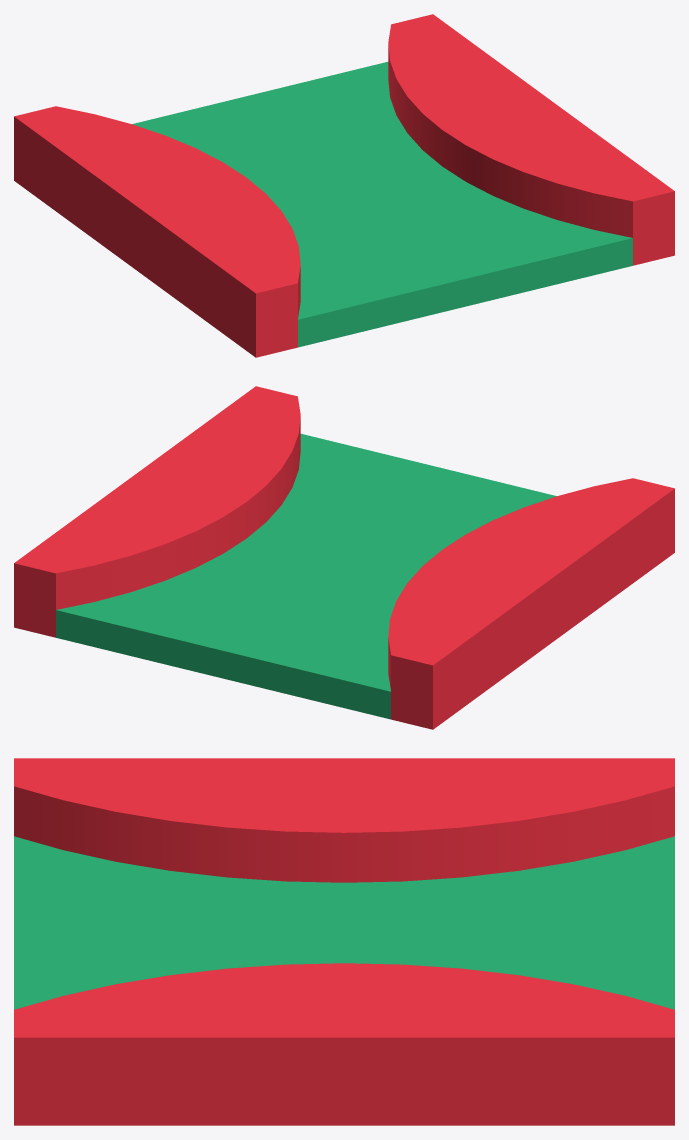
The model's file is narrowRound.fbx.
3 renders of one model, top to bottom at view 1: azimuth 30°, elevation 25°; view 2: azimuth 150°, elevation 25°; view 3: azimuth 270°, elevation 25°, orthographic. The views are drawn at different scales.
Parts seen in each view (by area): view 1: narrowRound; view 2: narrowRound; view 3: narrowRound.
Part boxes in pixels (x1,y1,x2,y2): narrowRound: [14, 14, 674, 357]; narrowRound: [14, 386, 674, 729]; narrowRound: [14, 758, 674, 1125].
Size of the model in its own units: 10 by 1.47 by 10.
